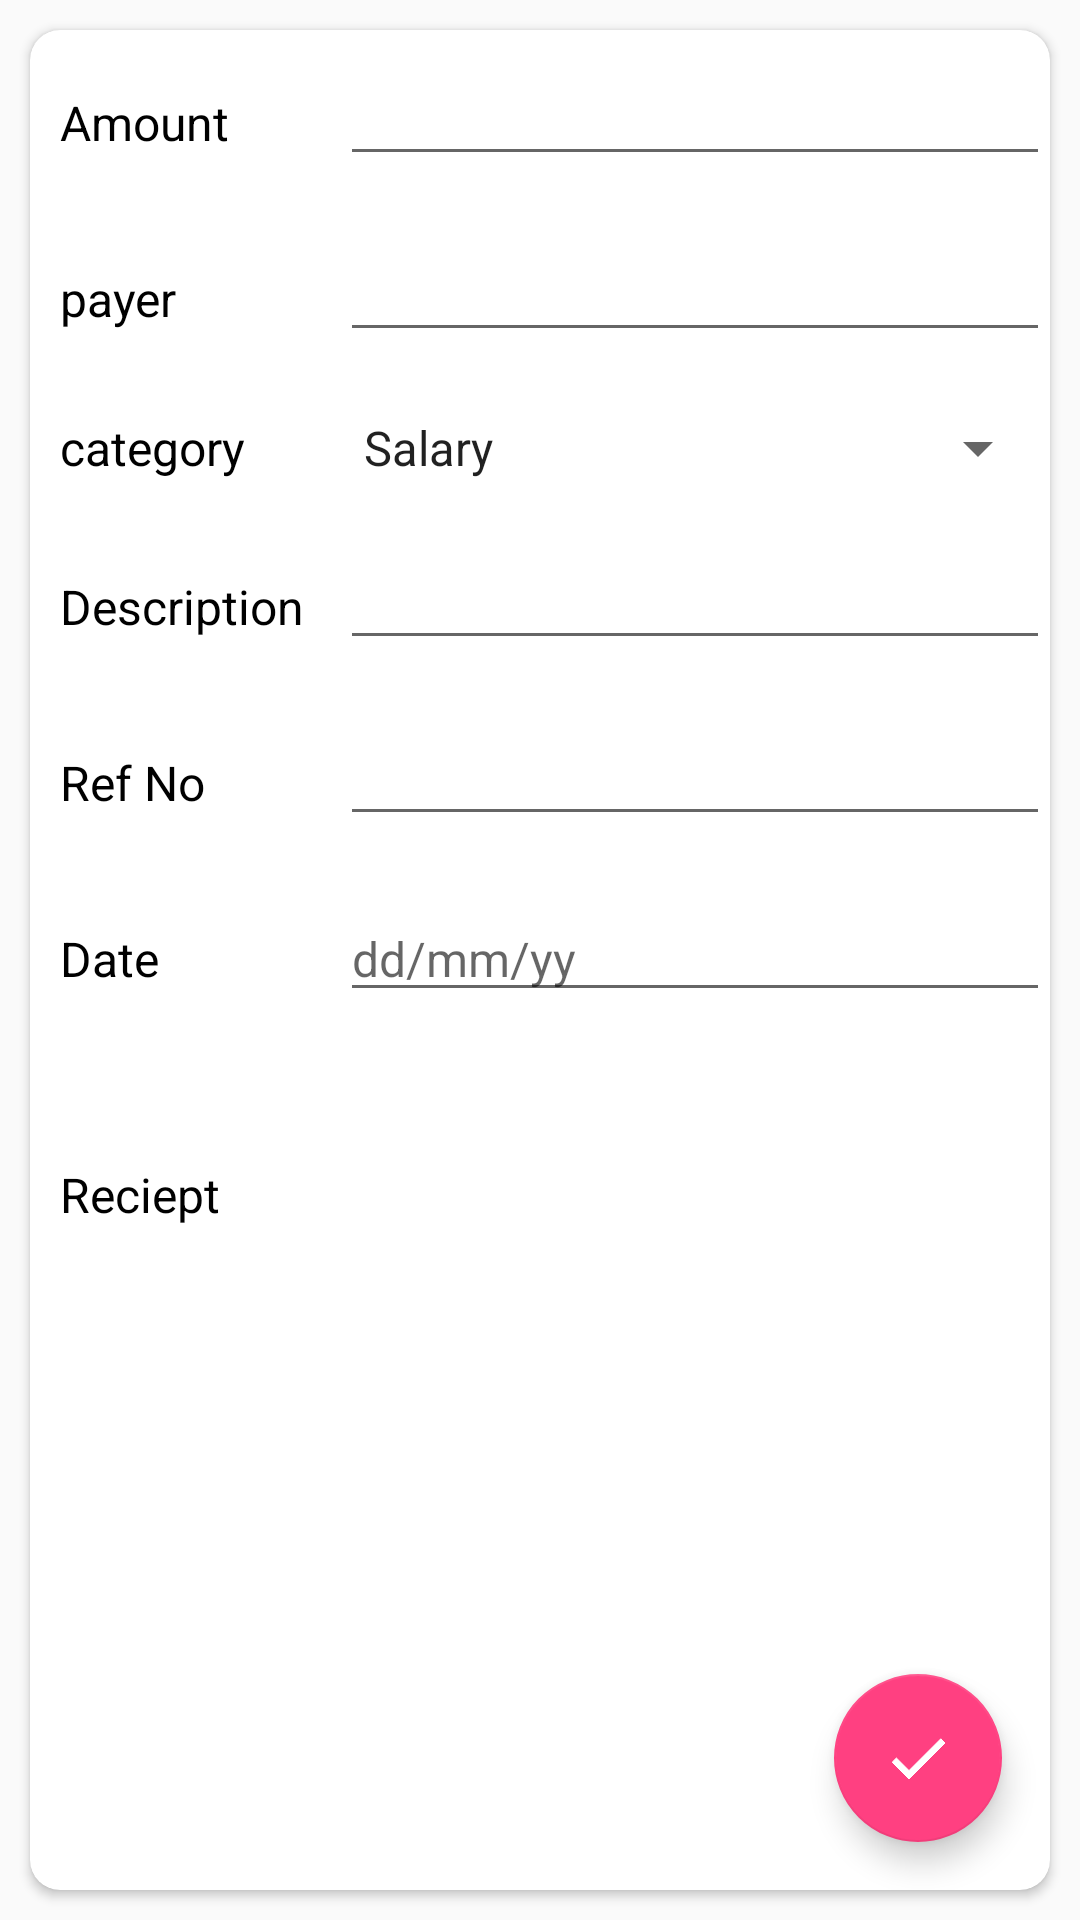

Icon bounding boxes for this 1080x1920 phone screenshot, format (x1, y1, x2, y2):
done: (834, 1674, 1002, 1842)
